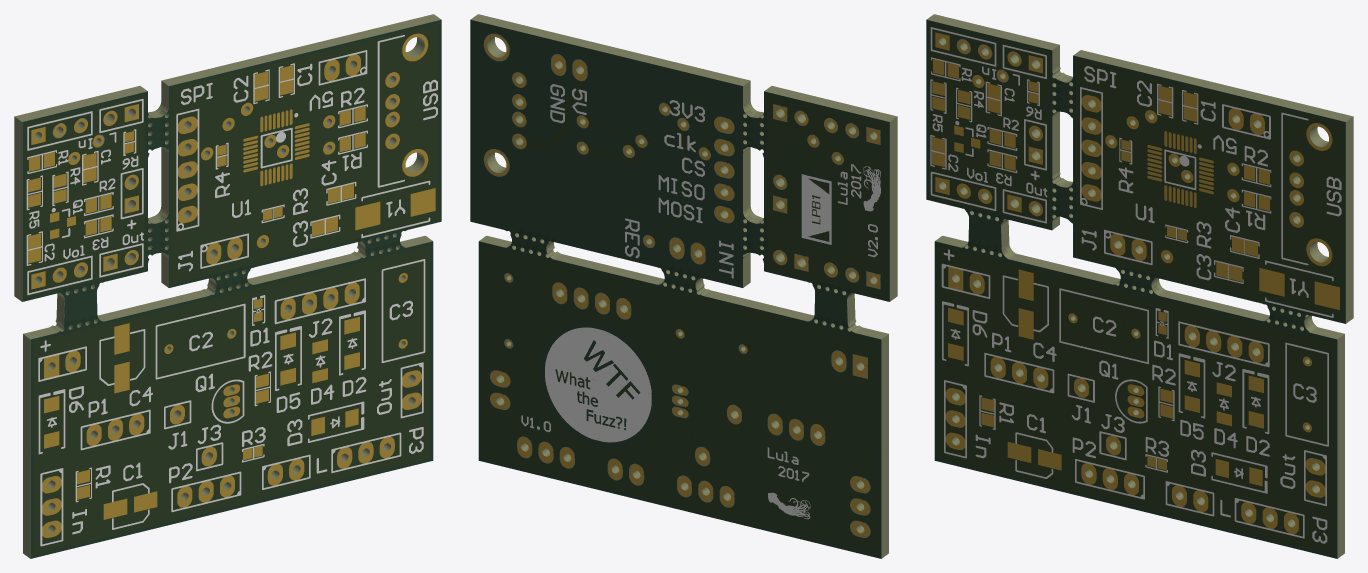
Rendered from wtf.glb.
The picture shows the model from 3 angles, left to right: view 1: azimuth 30°, elevation 25°; view 2: azimuth 150°, elevation 25°; view 3: azimuth 330°, elevation 25°; orthographic projection.
Visible parts, largest first — view 1: SHAPE_4, SHAPE_3, SHAPE_1, SHAPE_7; view 2: SHAPE_4, SHAPE_1, SHAPE_3, SHAPE_7; view 3: SHAPE_4, SHAPE_3, SHAPE_1, SHAPE_7.
Boxes of the visible parts, x1,y1,x2,y2 form: SHAPE_4: (22, 20, 441, 558); SHAPE_3: (26, 24, 437, 553); SHAPE_1: (14, 14, 441, 558); SHAPE_7: (26, 35, 437, 546); SHAPE_4: (470, 20, 889, 558); SHAPE_1: (470, 14, 897, 558); SHAPE_3: (482, 34, 885, 553); SHAPE_7: (521, 84, 880, 519); SHAPE_4: (926, 20, 1345, 558); SHAPE_3: (930, 24, 1342, 553); SHAPE_1: (926, 14, 1353, 558); SHAPE_7: (930, 27, 1341, 543).
Size of the model in its own units: 0.05 by 0.05 by 0.00175.
